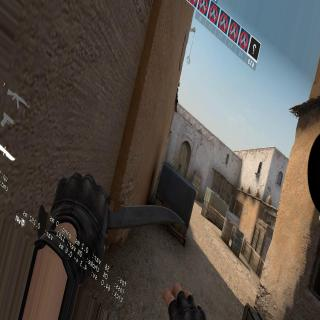CT-Body: (178, 163, 182, 172)
CT-Head: (180, 163, 182, 166)
